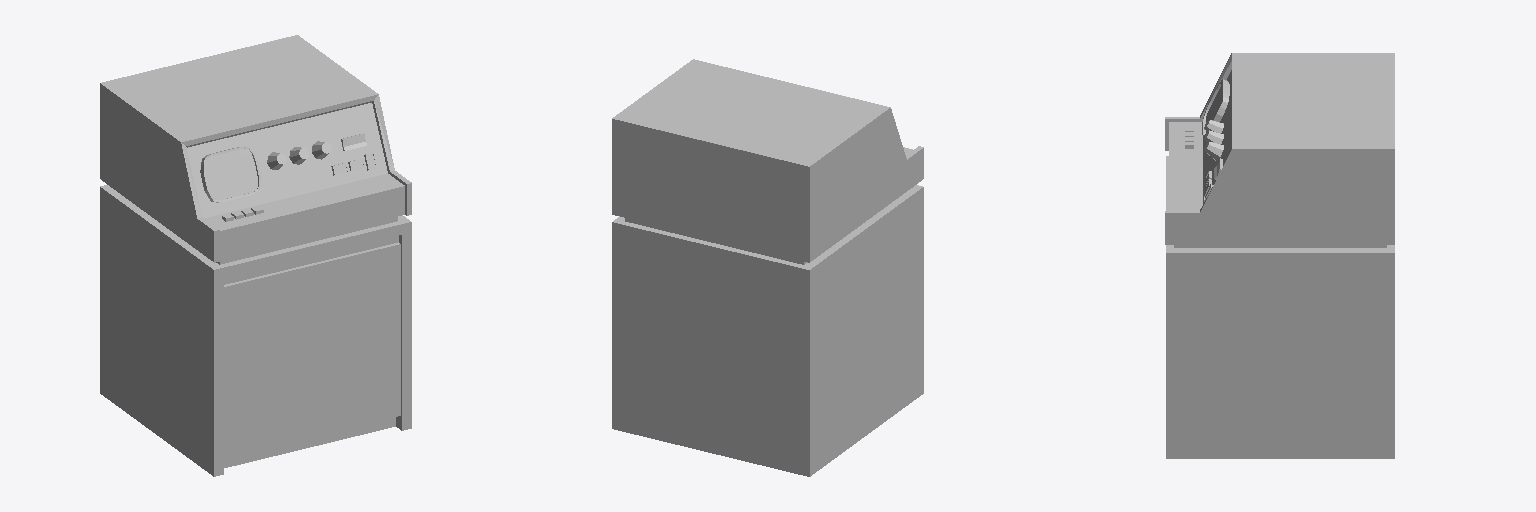
Rendered from Maquina2.obj.
3 renders of one model, left to right at view 1: azimuth 30°, elevation 25°; view 2: azimuth 150°, elevation 25°; view 3: azimuth 270°, elevation 25°, orthographic.
Parts seen in each view (by area): view 1: Maquina2; view 2: Maquina2; view 3: Maquina2.
Part boxes in pixels (left/top/right/bottom): Maquina2: left=100, top=35, right=411, bottom=476; Maquina2: left=612, top=59, right=923, bottom=476; Maquina2: left=1165, top=53, right=1394, bottom=458.
Bounding box in the file's own units: 2 × 3 × 2.01.